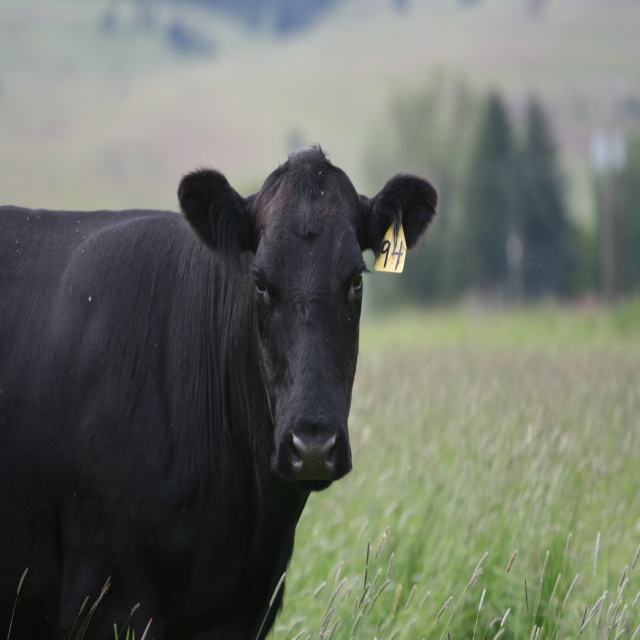Cattle: (0, 141, 439, 640)
